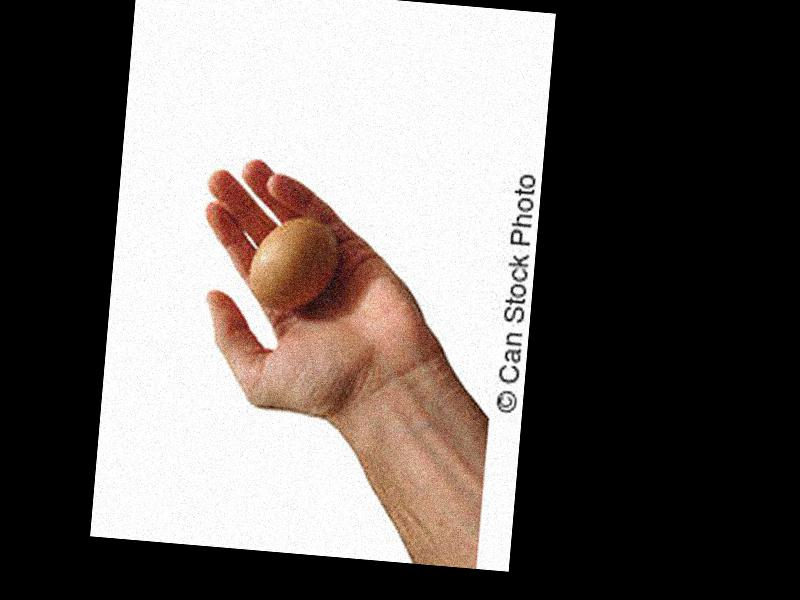Eggs: (250, 212, 339, 310)
